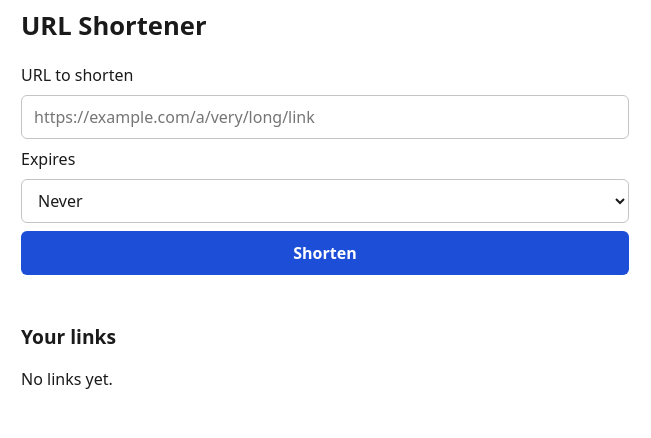
Test: App › shows the API 400 message under the input
The image size is (651, 438).
In the field labelled "URL to shorten": [325, 117] box [21,95,629,139], type "ftp://x.com"
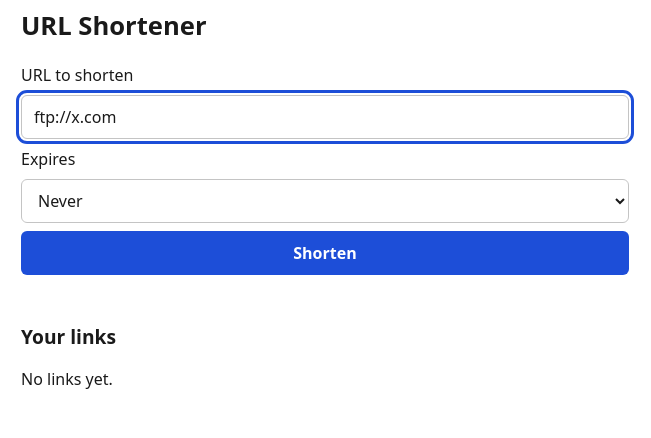
Click the button "Shorten": [325, 253] box [21,231,629,275]
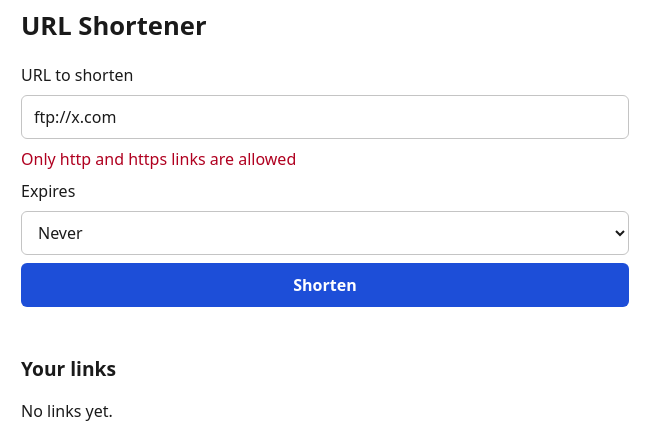
expect the message "Only http and https links are allowed" is shown: met, box [21,148,296,170]
